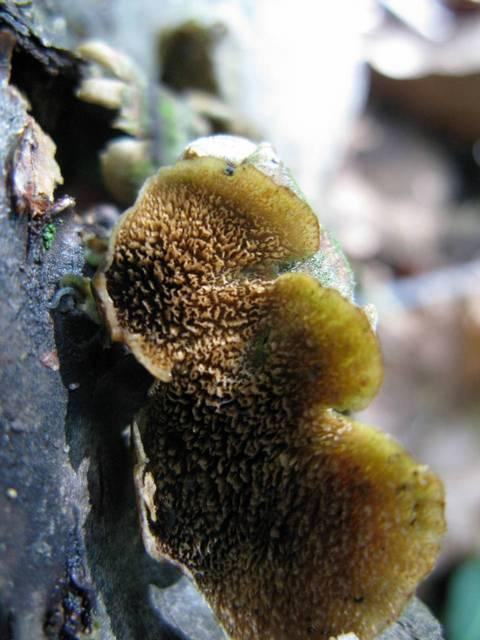poisonous_mushroom: (53, 132, 449, 639)
